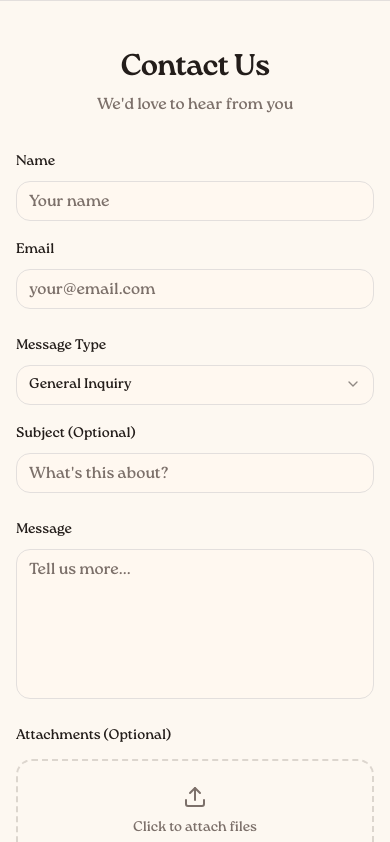
Test: Form Validation - Contact Form › validates minimum message length
Type "Short" into the text box labelled "Message".
click(195, 624); type("Short")  # box [16, 549, 374, 699]
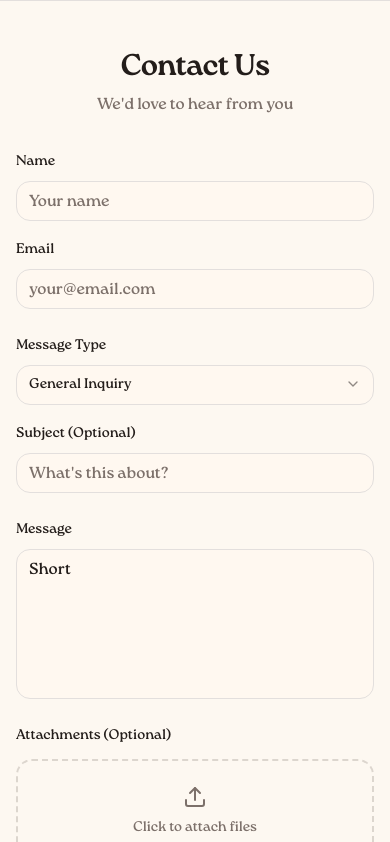
Leave the text box labelled "Message", box [16, 549, 374, 699]
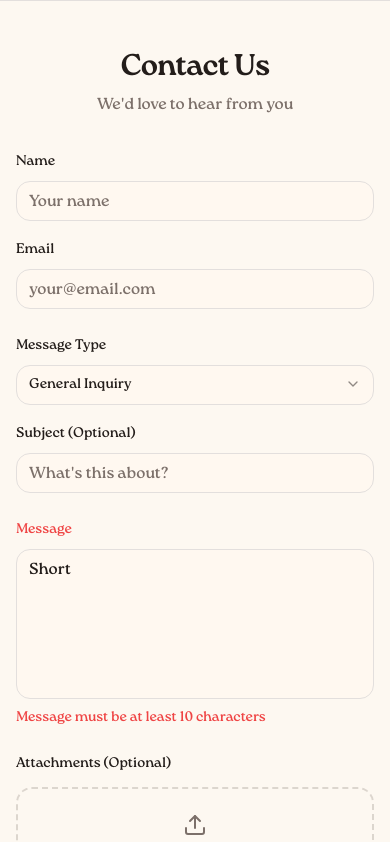
Expected: the text "Message must be at least 10 characters" is shown, [16, 708, 266, 726]
